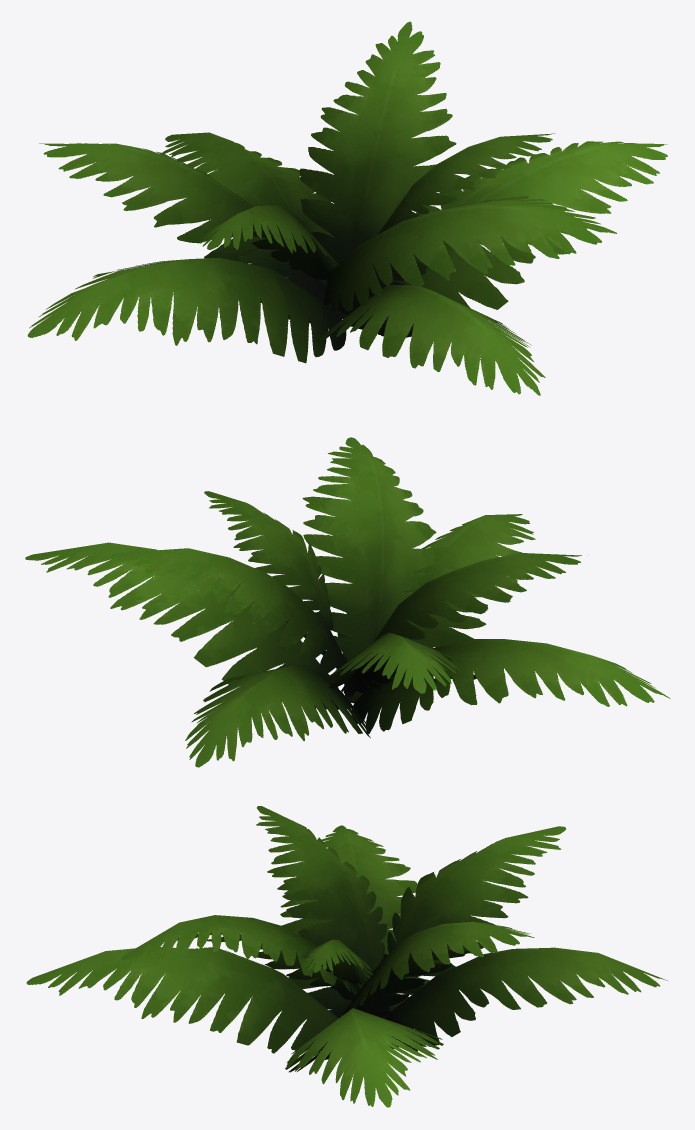
The model's file is Fern_1.glb.
The picture shows the model from 3 angles, top to bottom: view 1: azimuth 30°, elevation 25°; view 2: azimuth 150°, elevation 25°; view 3: azimuth 270°, elevation 25°; orthographic projection. The views are drawn at different scales.
Visible parts, largest first — view 1: Fern_1; view 2: Fern_1; view 3: Fern_1.
Part boxes in pixels (bbox=[...]): Fern_1: bbox=[27, 21, 667, 395]; Fern_1: bbox=[25, 437, 670, 767]; Fern_1: bbox=[26, 806, 667, 1107].
Size of the model in its own units: 2.83 by 0.8404 by 2.65.
1 material, 1 textured.
